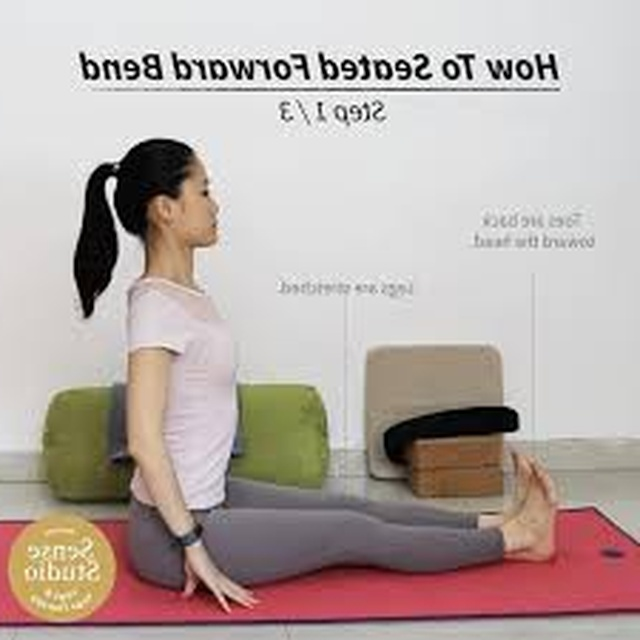Staff_Pose: (74, 138, 558, 616)
